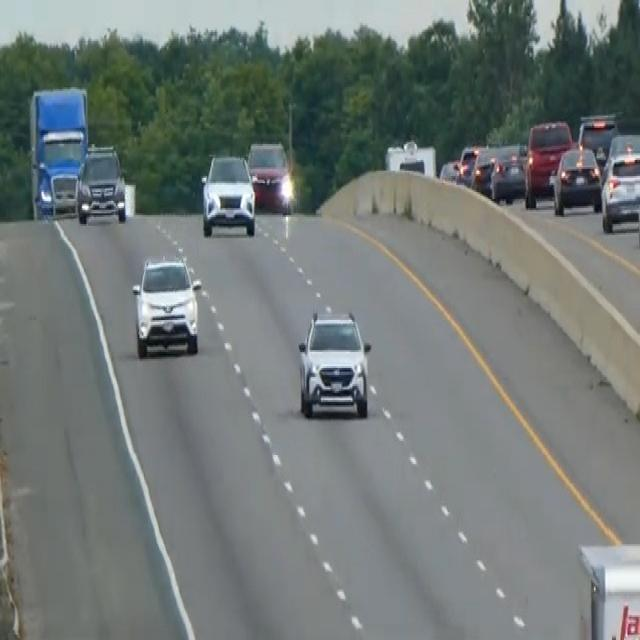car: (130, 252, 202, 358), (199, 151, 256, 237), (523, 118, 573, 206), (75, 142, 127, 224), (600, 131, 639, 233), (550, 142, 602, 215), (246, 137, 293, 213), (489, 140, 527, 202), (577, 112, 619, 167), (470, 142, 503, 196), (456, 140, 485, 185), (438, 157, 461, 183)
jeep: (294, 304, 373, 421)
lorry: (28, 84, 89, 218)
